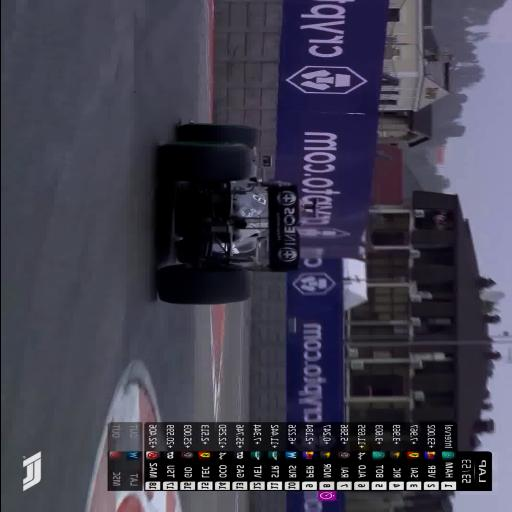f1_car: (157, 123, 299, 305), (260, 157, 271, 166)
